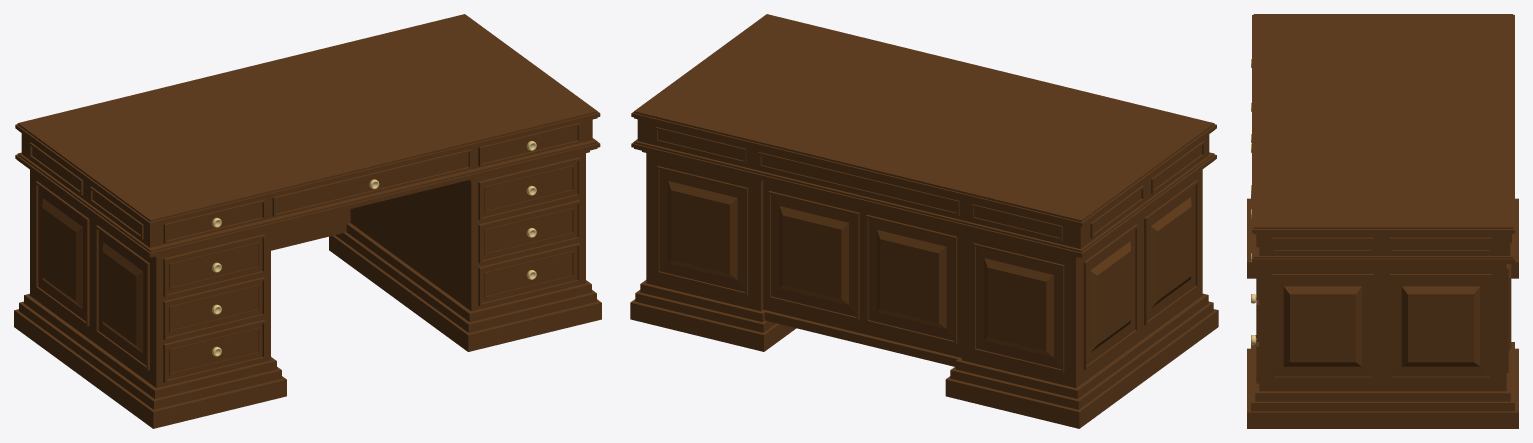
The model's file is uploads_files_3609075_table02.fbx.
3 renders of one model, left to right at view 1: azimuth 30°, elevation 25°; view 2: azimuth 150°, elevation 25°; view 3: azimuth 270°, elevation 25°, orthographic. The views are drawn at different scales.
Visible parts, largest first — view 1: Top board, leg, drawer.004, drawer.008, drawer.005, drawer.007, drawer.006, drawer, drawer.001, drawer.003, drawer.002, board; view 2: Top board, leg, board; view 3: Top board, leg.
Part boxes in pixels (bbox=[...]): Top board: bbox=[15, 14, 600, 257]; leg: bbox=[14, 150, 601, 428]; drawer.004: bbox=[163, 234, 265, 297]; drawer.008: bbox=[478, 243, 580, 306]; drawer.005: bbox=[163, 277, 265, 340]; drawer.007: bbox=[478, 200, 580, 263]; drawer.006: bbox=[478, 157, 580, 220]; drawer: bbox=[163, 320, 265, 383]; drawer.001: bbox=[272, 149, 471, 216]; drawer.003: bbox=[163, 199, 265, 243]; drawer.002: bbox=[478, 123, 580, 166]; board: bbox=[271, 209, 350, 250]; Top board: bbox=[631, 14, 1216, 257]; leg: bbox=[630, 151, 1218, 428]; board: bbox=[763, 180, 961, 366]; Top board: bbox=[1252, 14, 1514, 263]; leg: bbox=[1247, 194, 1518, 428].
Bounding box in the file's own units: 189 × 82.5 × 101.
